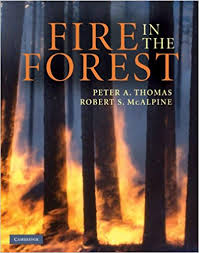fire: (4, 108, 44, 253), (115, 131, 148, 253), (64, 139, 87, 253)
